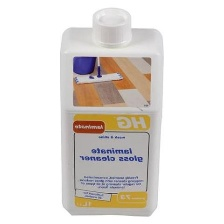cleaning_solution: (57, 6, 166, 219)
